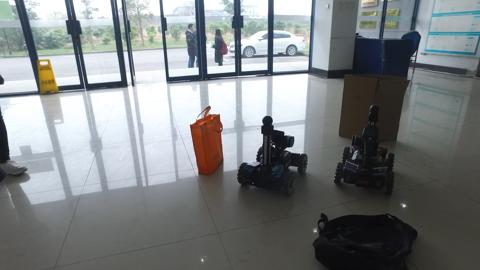bag: (314, 210, 414, 270), (186, 106, 226, 175)
chariot: (333, 108, 398, 195), (237, 115, 307, 195)
